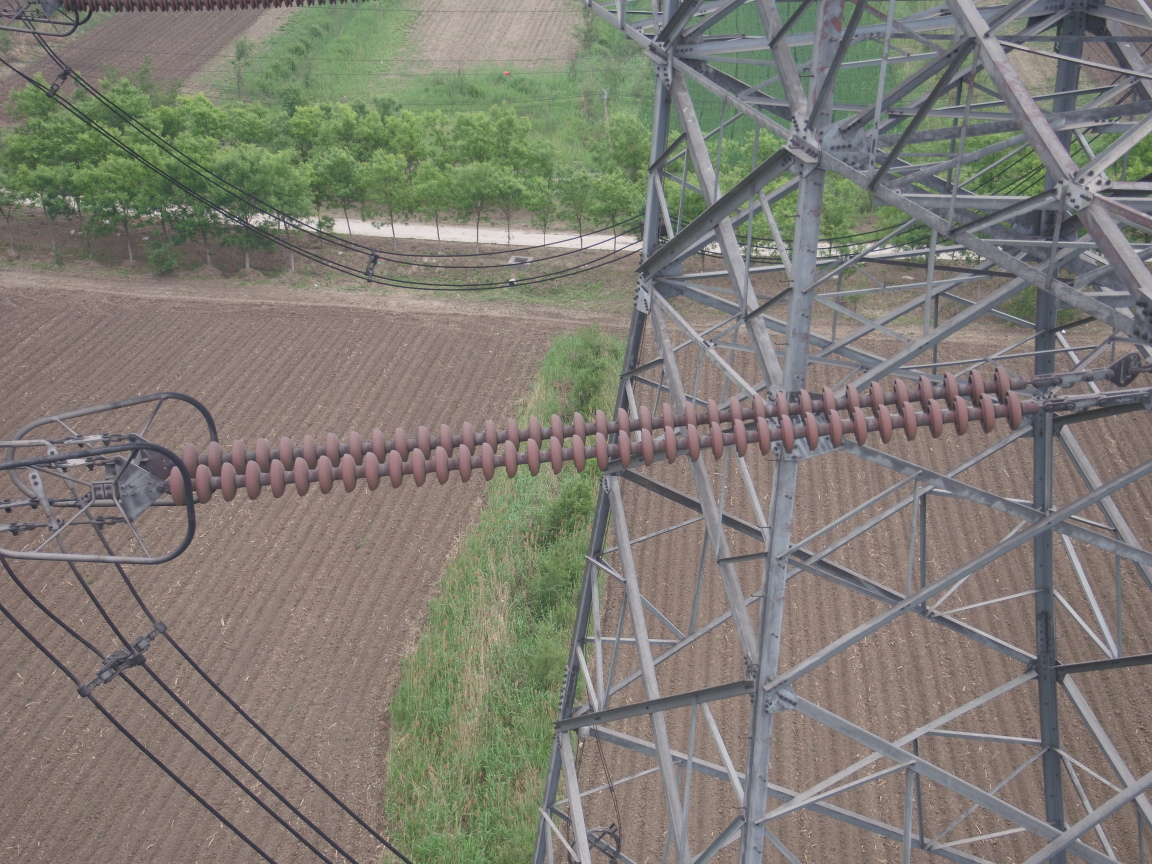insulator: (149, 365, 1072, 506)
